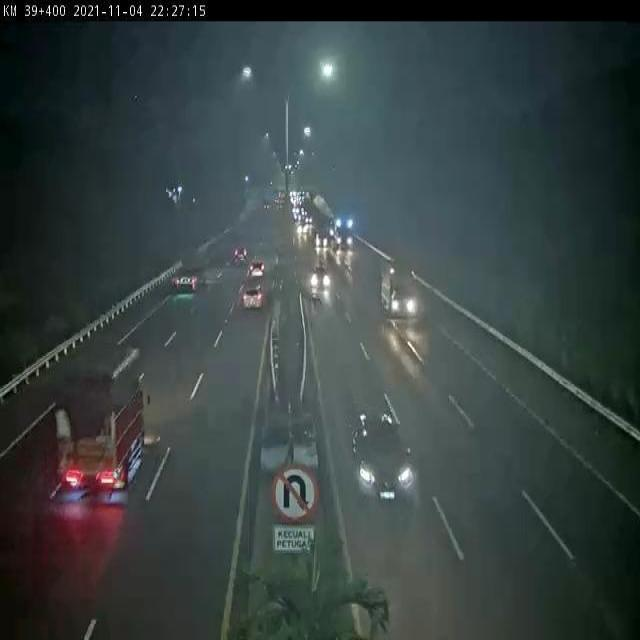Car: (347, 395, 418, 517), (240, 280, 264, 308), (310, 264, 330, 293), (234, 244, 248, 267), (249, 260, 266, 275)
Truck: (53, 372, 156, 508), (382, 264, 418, 320), (172, 249, 206, 293), (334, 211, 355, 251)
